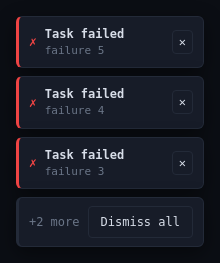
Test case: stacking › dismisses one without touching the others
This screenshot has width=220, height=263.
Click the button named "Dismiss: Task failed". click: (182, 42)
box: [172, 30, 193, 54]
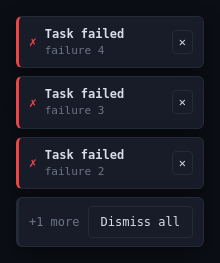
Expected: the text "Task failed" is shown 3 times, [45, 26, 124, 40]; [45, 87, 124, 101]; [45, 148, 124, 162]
Expected: the text "+1 more" is shown, [29, 213, 80, 231]
